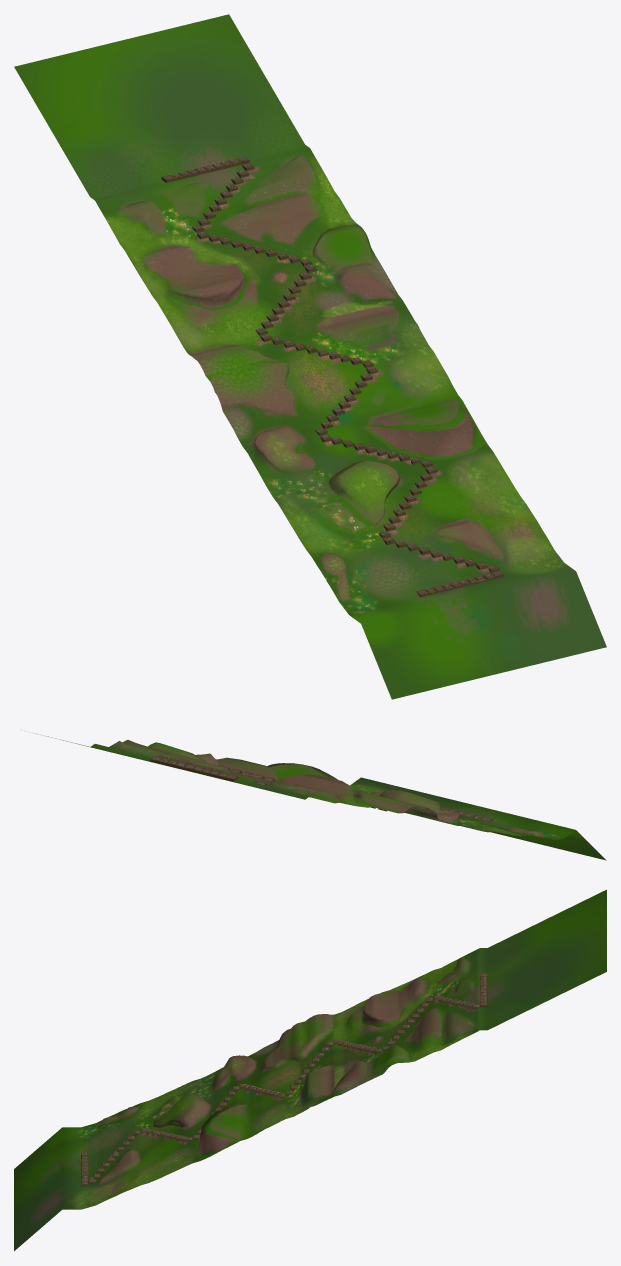
File: snake game final 1.fbx
The picture shows the model from 3 angles, top to bottom: view 1: azimuth 30°, elevation 25°; view 2: azimuth 150°, elevation 25°; view 3: azimuth 270°, elevation 25°; orthographic projection. The views are drawn at different scales.
Visible parts, largest first — view 1: Valley, Steps1, group2; view 2: Valley, Steps1, group2; view 3: Valley, Steps1, group2.
Boxes of the visible parts, bbox=[...] form: Valley: bbox=[14, 14, 606, 699]; Steps1: bbox=[161, 157, 503, 597]; group2: bbox=[172, 157, 500, 593]; Valley: bbox=[33, 733, 606, 860]; Steps1: bbox=[150, 755, 492, 821]; group2: bbox=[154, 756, 488, 819]; Valley: bbox=[14, 889, 606, 1250]; Steps1: bbox=[81, 973, 487, 1186]; group2: bbox=[82, 976, 485, 1183].
Size of the model in its own units: 84.8 by 134 by 257.
3 materials, 3 textured.
